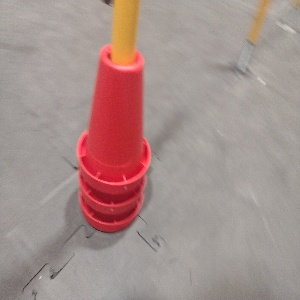Red_3: (76, 41, 151, 232)
